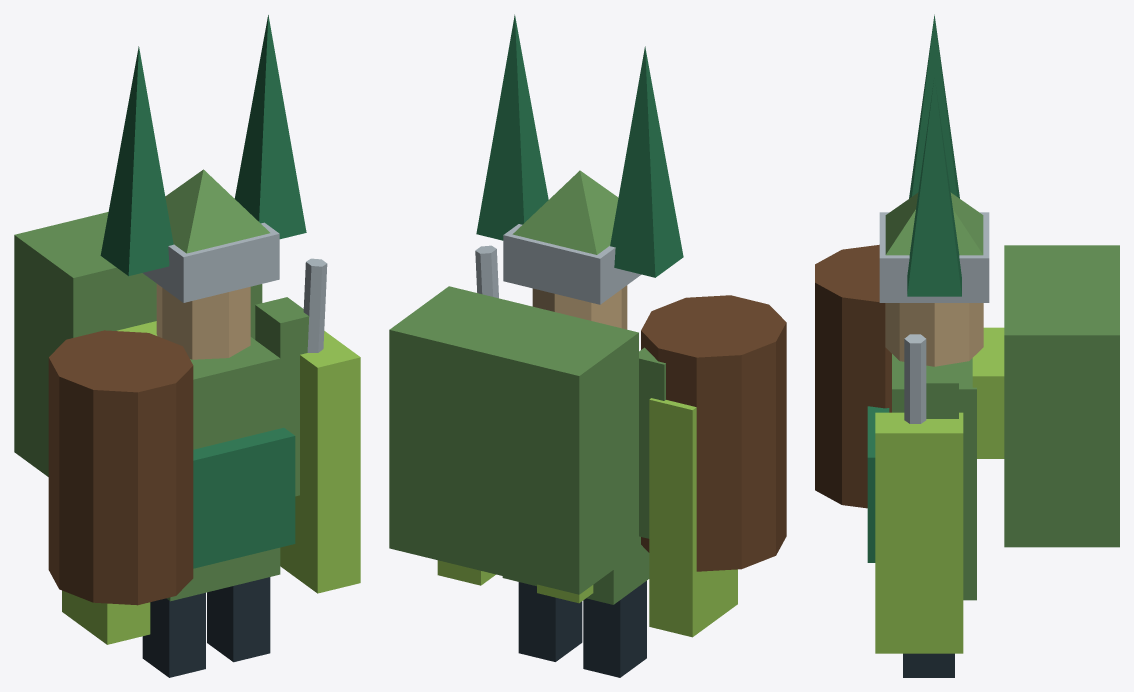
The model's file is mechanized-infantry.obj.
3 views of the same model, side by side, from view 1: azimuth 30°, elevation 25°; view 2: azimuth 150°, elevation 25°; view 3: azimuth 270°, elevation 25° (orthographic). The views are drawn at different scales.
Parts seen in each view (by area): view 1: infantry; view 2: infantry; view 3: infantry.
Part boxes in pixels (bbox=[...]): infantry: bbox=[14, 15, 360, 677]; infantry: bbox=[389, 14, 786, 677]; infantry: bbox=[815, 14, 1119, 677].
Size of the model in its own units: 1.1 by 2.21 by 1.
